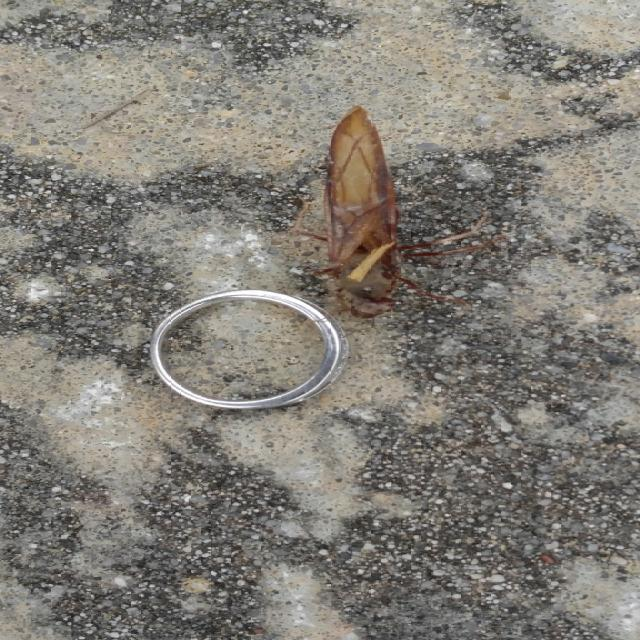Alive-Female-Alate: (291, 104, 507, 320)
